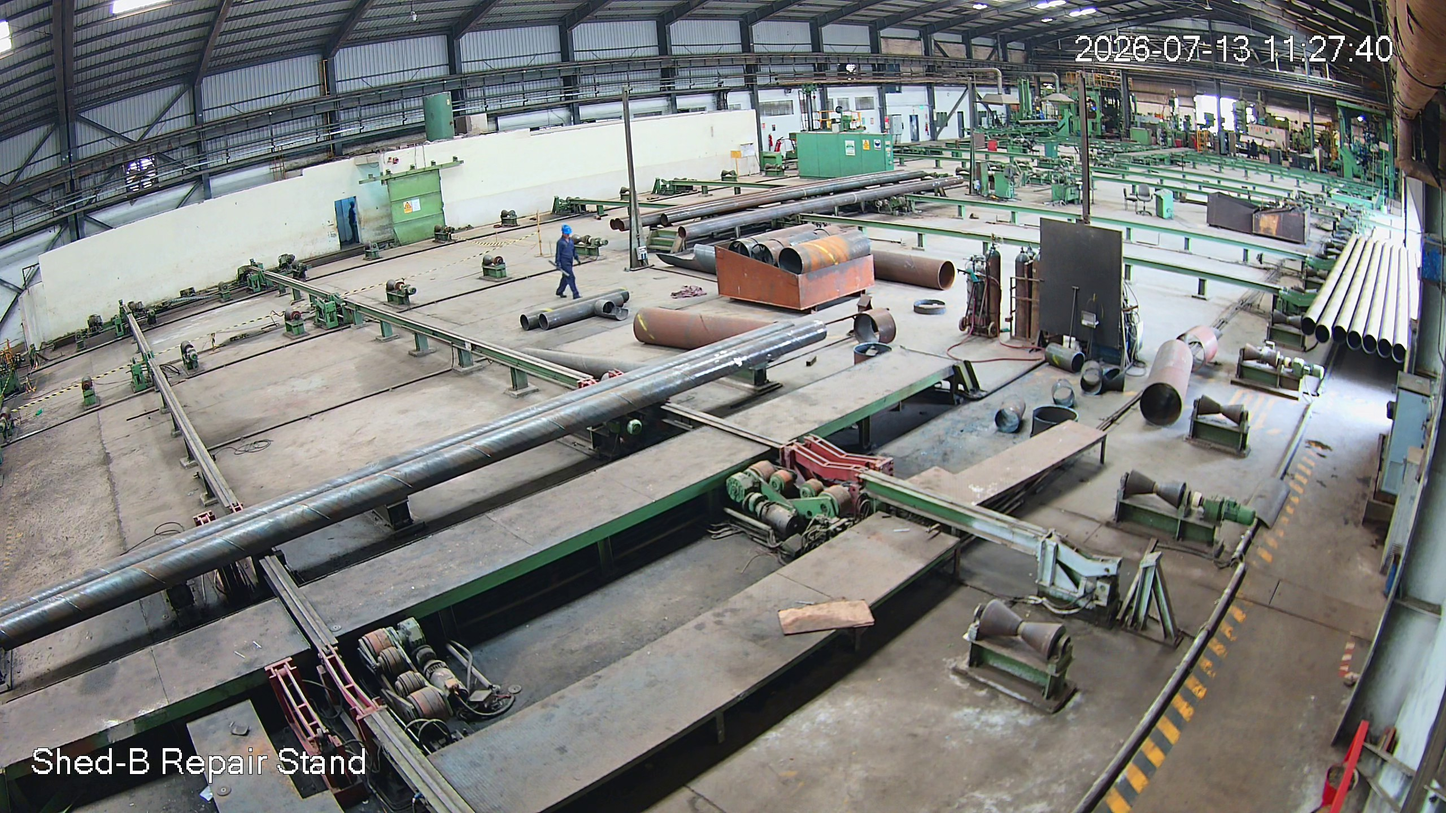Helmet: (557, 223, 574, 239)
Person: (554, 225, 581, 304)
